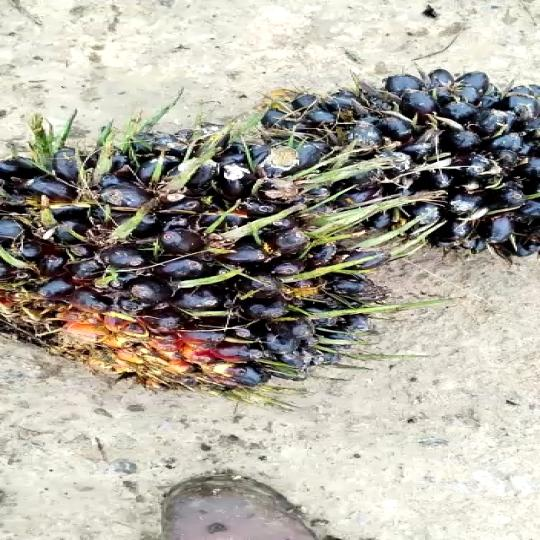mentah: (0, 110, 383, 418), (261, 77, 540, 254)
